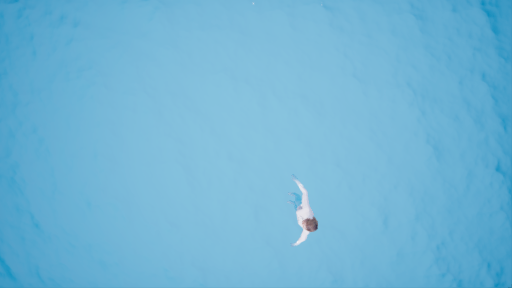person: (284, 175, 321, 248)
